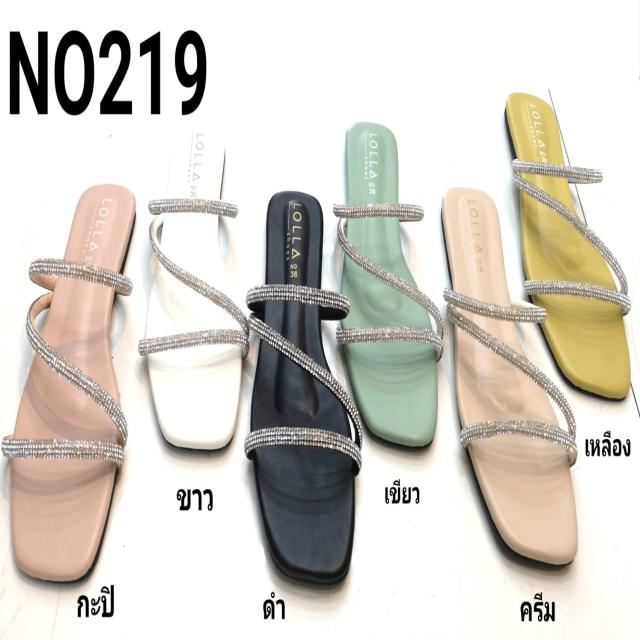black: (242, 165, 367, 596)
cream: (429, 178, 565, 568)
green: (325, 94, 443, 453)
kapi: (6, 148, 145, 594)
white: (145, 98, 239, 486)
yellow: (486, 83, 640, 390)
